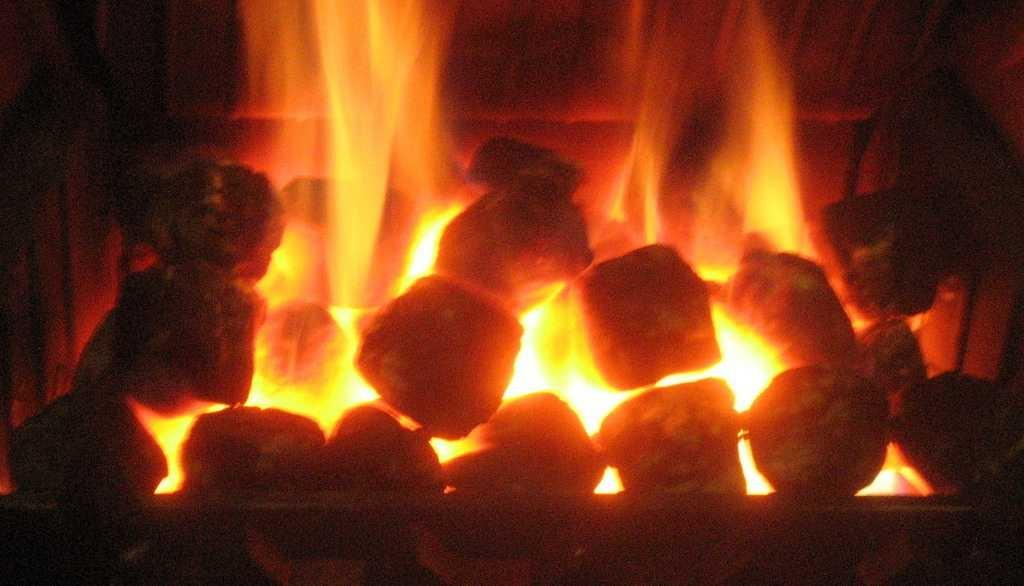fire: (283, 4, 427, 176), (713, 91, 813, 249), (256, 353, 359, 406), (526, 311, 583, 397), (716, 321, 776, 393), (260, 239, 307, 306)
